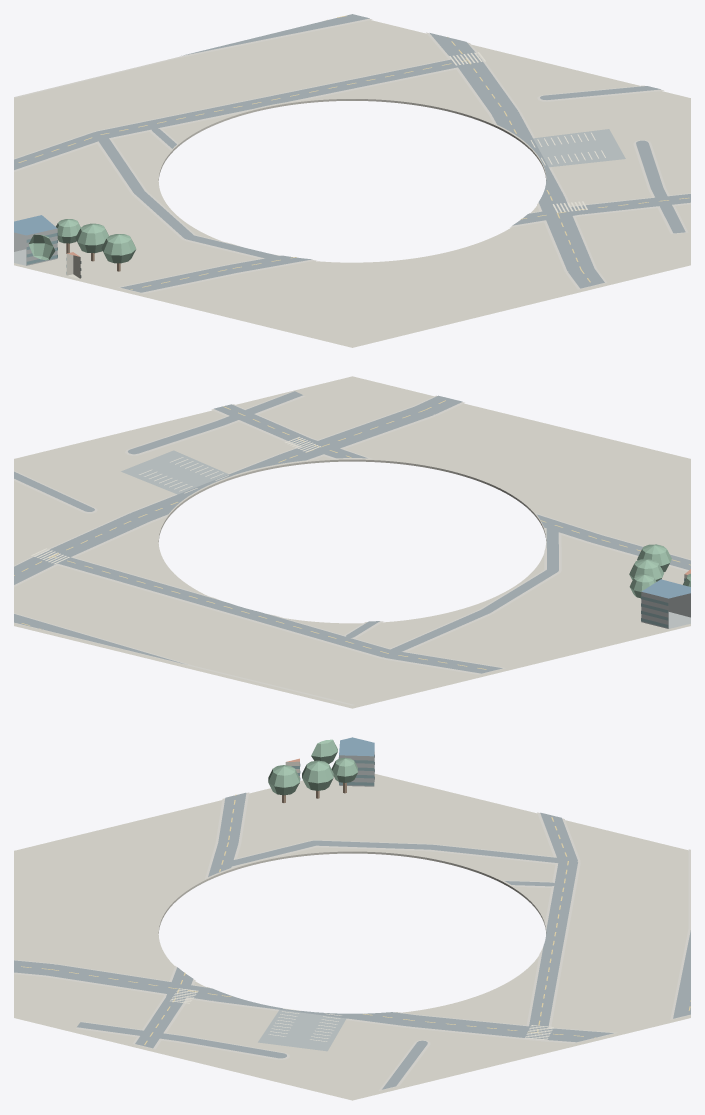
Rendered from surround-P06.glb.
3 views of the same model, one above another, from view 1: azimuth 30°, elevation 25°; view 2: azimuth 150°, elevation 25°; view 3: azimuth 270°, elevation 25° (orthographic).
Visible parts, largest first — view 1: P06_ground, P06_road, P06_paving, P06_leafdark, P06_parking, P06_gray, P06_yellow, P06_white, P06_solar; view 2: P06_ground, P06_road, P06_paving, P06_parking, P06_leafdark, P06_gray, P06_white, P06_yellow, P06_solar; view 3: P06_ground, P06_road, P06_paving, P06_leafdark, P06_parking, P06_white, P06_yellow, P06_solar.
Boxes of the visible parts, x1,y1,x2,y2 form: P06_ground: (14,20,690,347); P06_road: (14,14,690,292); P06_paving: (14,18,690,293); P06_leafdark: (28,219,136,263); P06_parking: (525,129,625,167); P06_gray: (14,228,57,265); P06_yellow: (18,15,689,289); P06_white: (449,52,605,212); P06_solar: (14,215,57,235); P06_ground: (14,376,690,708); P06_road: (14,391,690,673); P06_paving: (14,391,690,705); P06_parking: (121,450,232,494); P06_leafdark: (629,544,690,598); P06_gray: (641,592,690,628); P06_white: (31,437,320,564); P06_yellow: (14,400,690,669); P06_solar: (641,579,690,598); P06_ground: (14,774,690,1100); P06_road: (14,792,690,1089); P06_paving: (14,792,690,1090); P06_leafdark: (268,739,357,795); P06_parking: (258,1009,346,1051); P06_white: (170,988,553,1041); P06_yellow: (21,794,690,1044); P06_solar: (339,737,374,756).
Bounding box in the file's own units: 16.16 × 0.8775 × 14.
